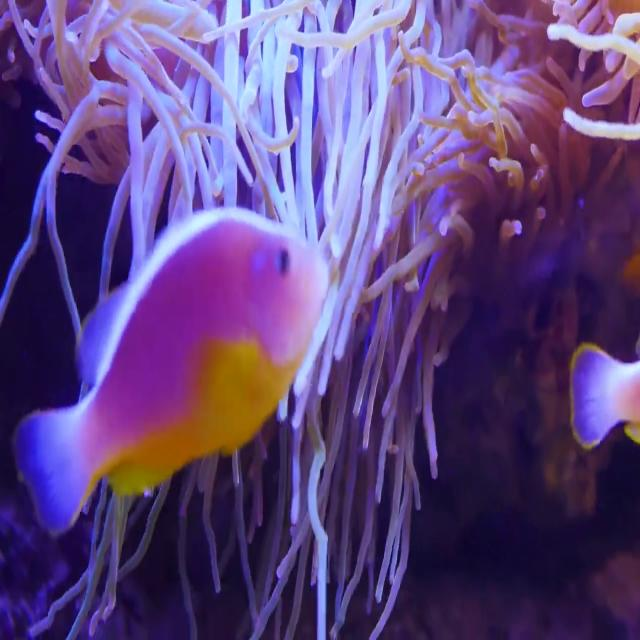fish: (12, 211, 334, 543), (556, 251, 640, 449)
